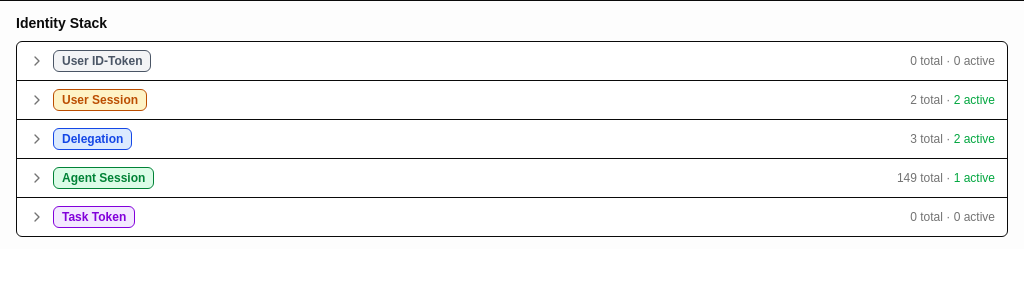
Test: IdentityStackPanel › User ID-Token shows empty state when no delegators
Step 1. Click the text "User ID-Token" → x=102, y=61, box [53,50,152,72]
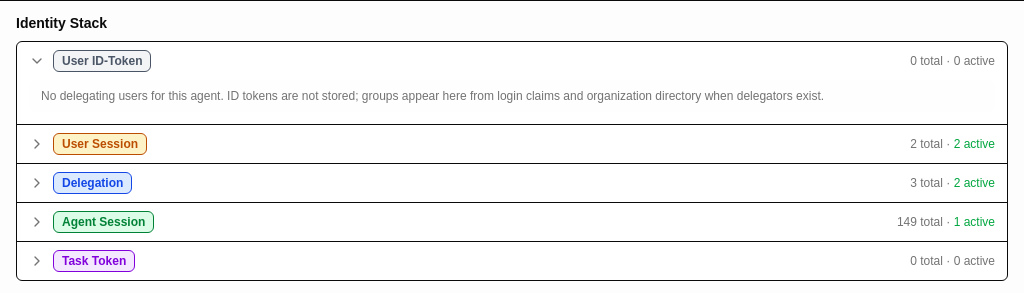
Expected: the text "No delegating users for this agent" is shown, [41,89,824,103]
